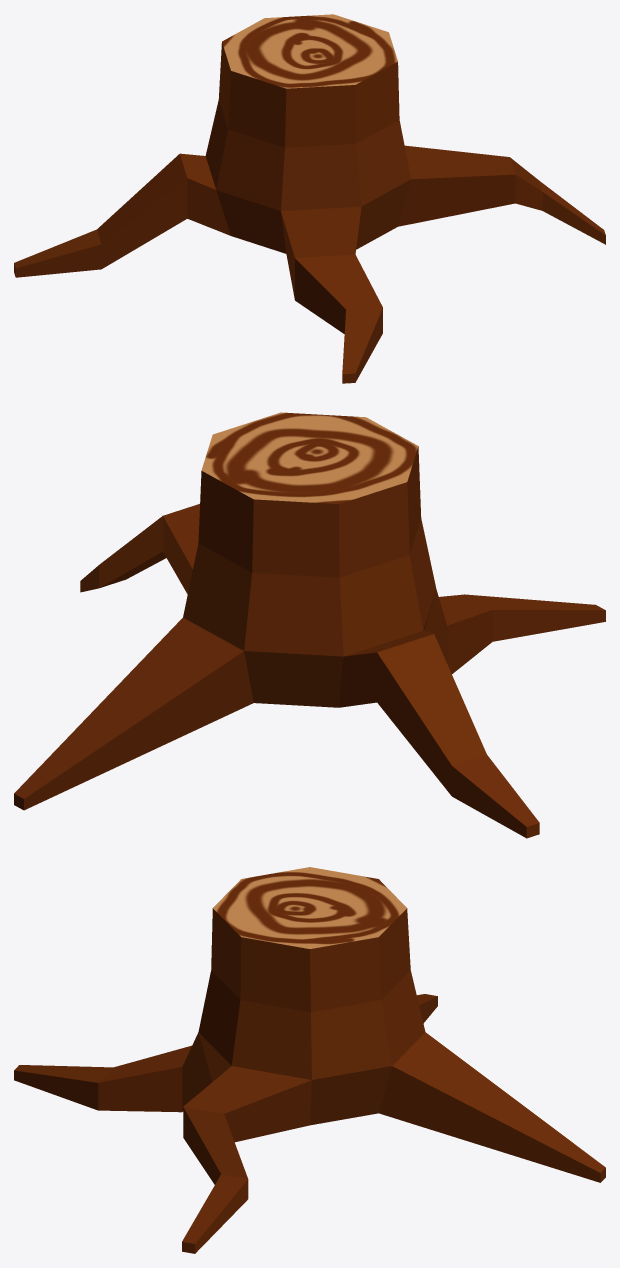
The model's file is treetrunk.obj.
The picture shows the model from 3 angles, top to bottom: view 1: azimuth 30°, elevation 25°; view 2: azimuth 150°, elevation 25°; view 3: azimuth 270°, elevation 25°; orthographic projection. The views are drawn at different scales.
Visible parts, largest first — view 1: Cylinder; view 2: Cylinder; view 3: Cylinder.
Boxes of the visible parts, box(x1,y1,x2,y2) form: Cylinder: box(14, 14, 605, 383); Cylinder: box(14, 412, 605, 838); Cylinder: box(14, 867, 605, 1253).
Size of the model in its own units: 6.09 by 2.51 by 6.09.
1 material, 1 textured.
